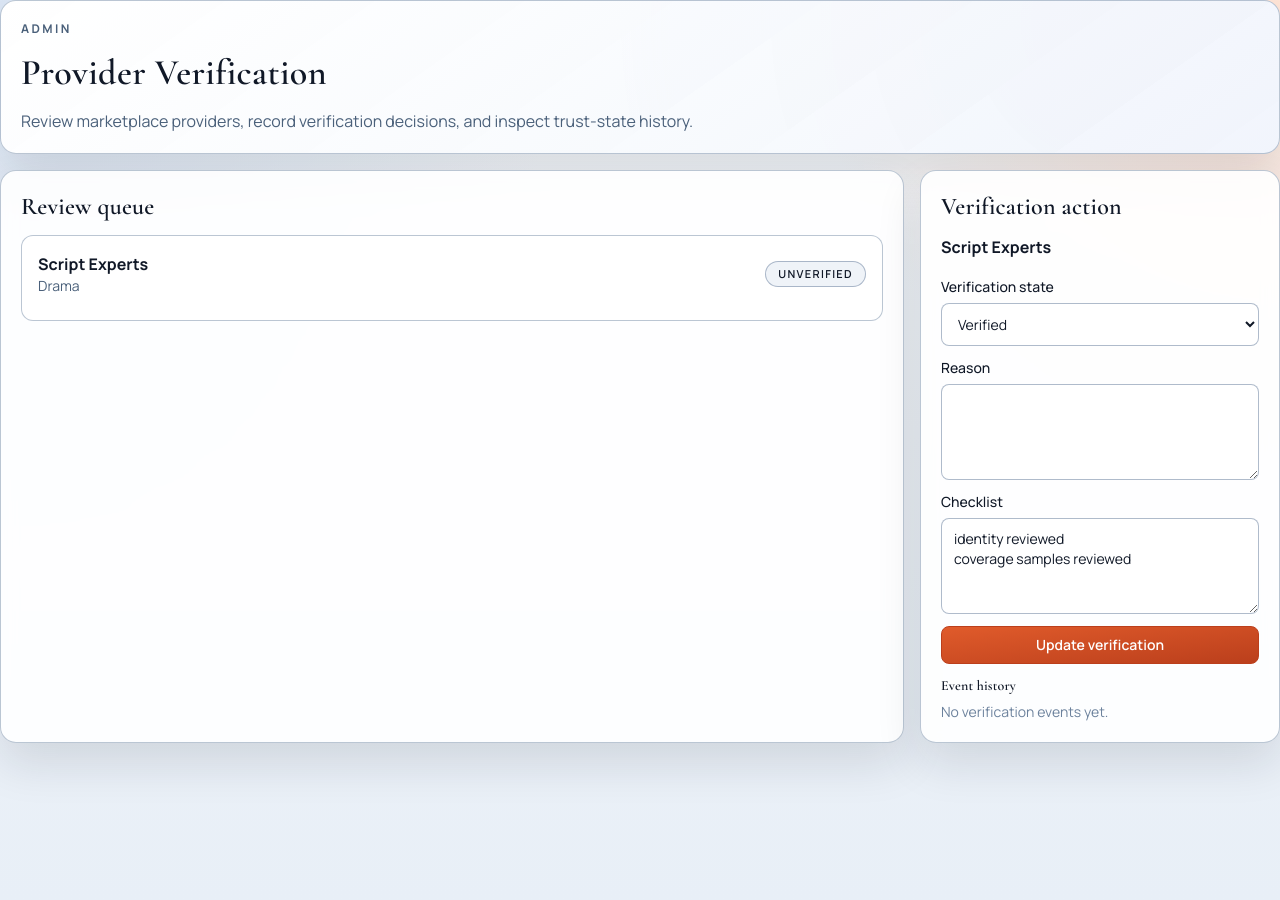
AdminProvidersPage › requires reason for rejected or suspended transitions
Select "Rejected" in the dropdown labelled "Verification state" at (1100, 324), box 941,303 -> 1259,346
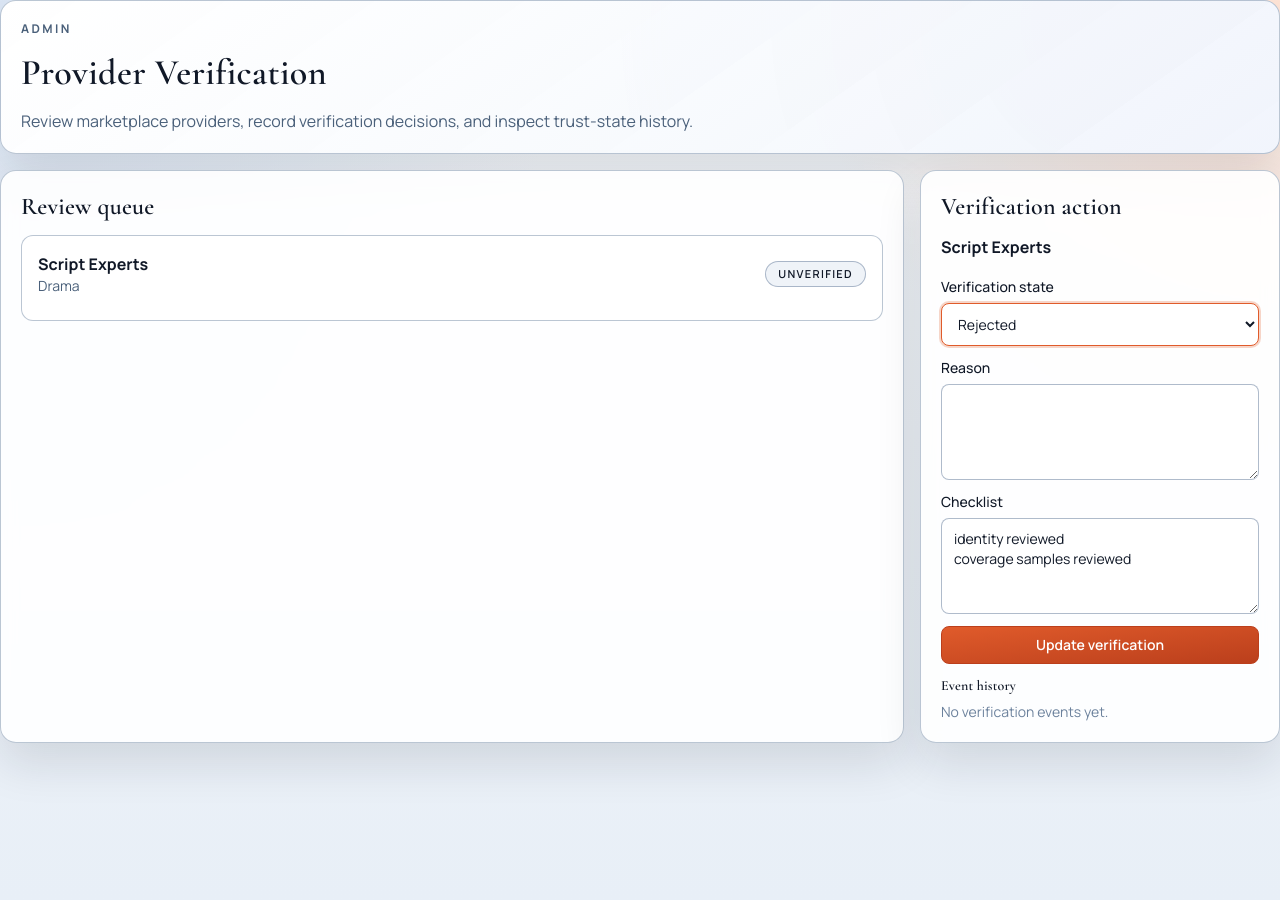
Click the button "Update verification" at (1100, 645), box 941,626 -> 1259,664
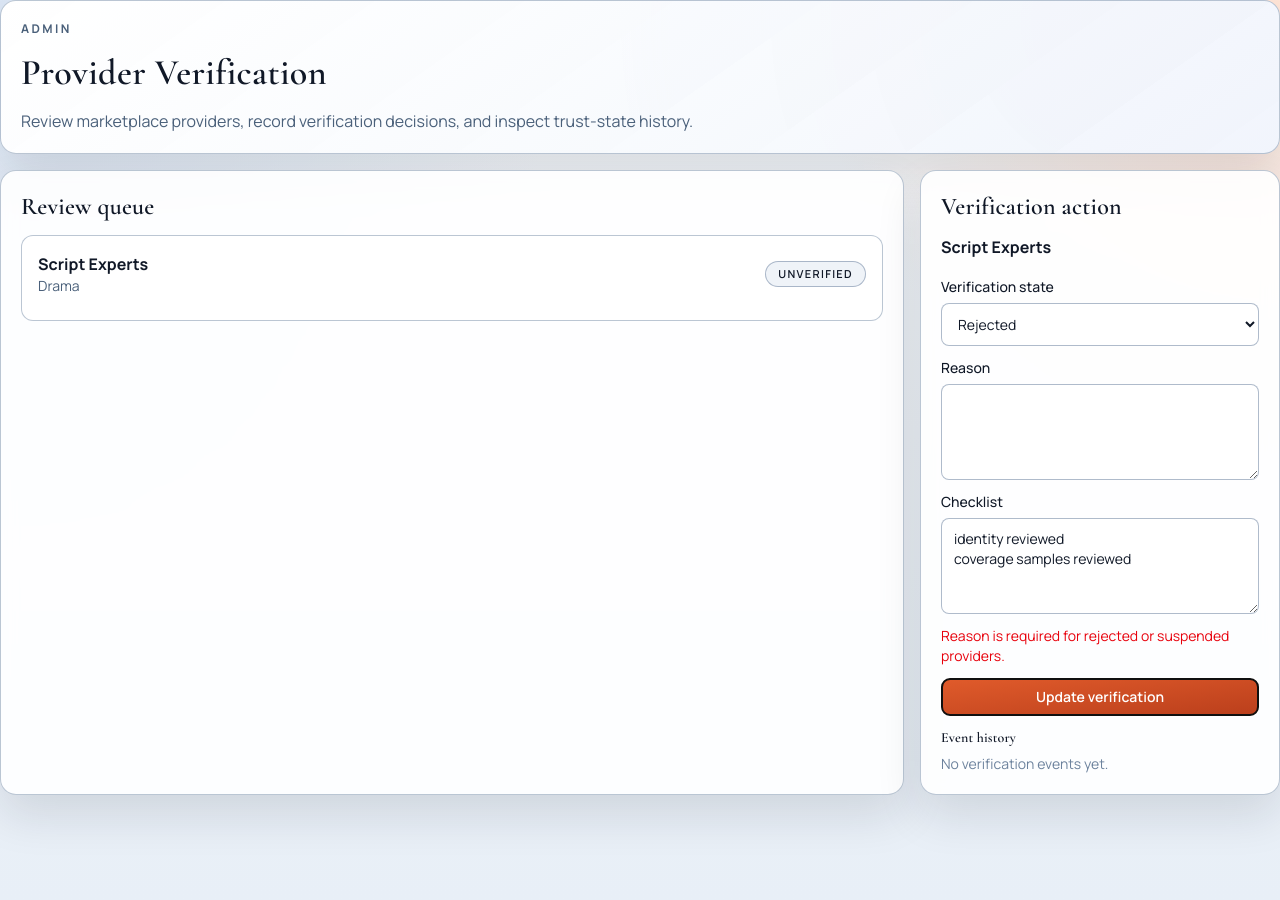
Expected: the text "Reason is required for rejected or suspended providers." is shown, 941,626 -> 1259,666
